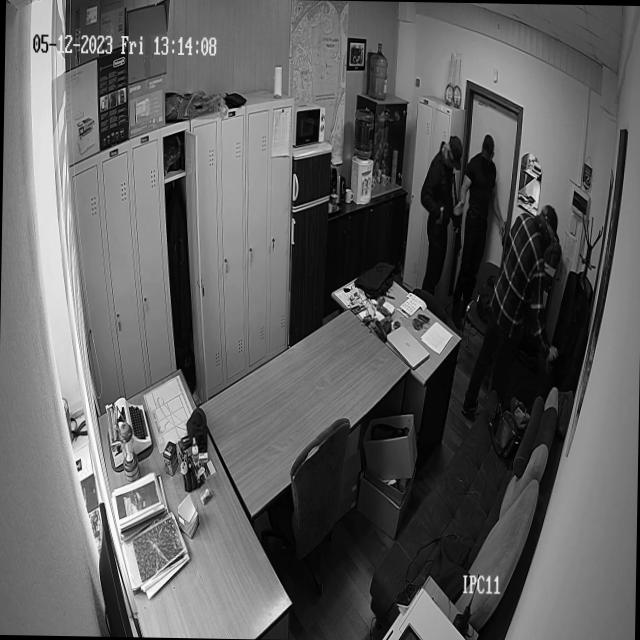gun: (450, 176, 463, 257)
person: (492, 196, 556, 402), (459, 133, 494, 310)
person with a gun: (422, 134, 460, 290)
